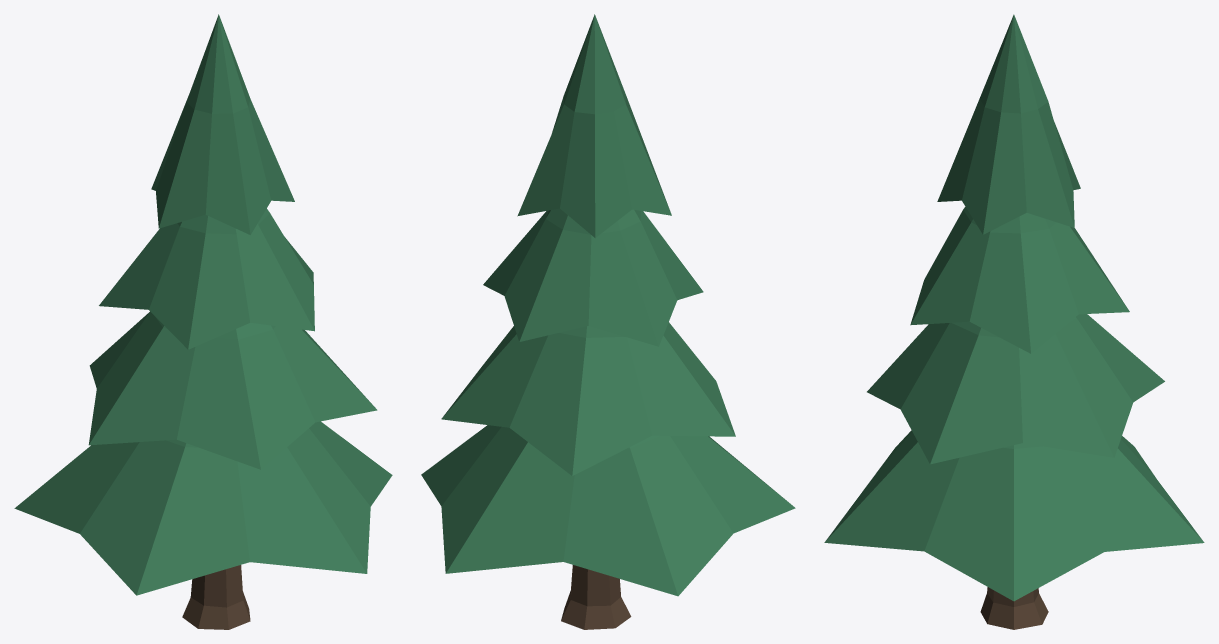
File: TreePine.fbx
3 views of the same model, side by side, from view 1: azimuth 30°, elevation 25°; view 2: azimuth 150°, elevation 25°; view 3: azimuth 270°, elevation 25° (orthographic).
Parts seen in each view (by area): view 1: TreePine; view 2: TreePine; view 3: TreePine.
Part boxes in pixels (x1,y1,x2,y2): TreePine: (14, 14, 392, 629); TreePine: (421, 14, 795, 629); TreePine: (824, 14, 1204, 629).
Bounding box in the file's own units: 3.04 × 5.5 × 3.15.
